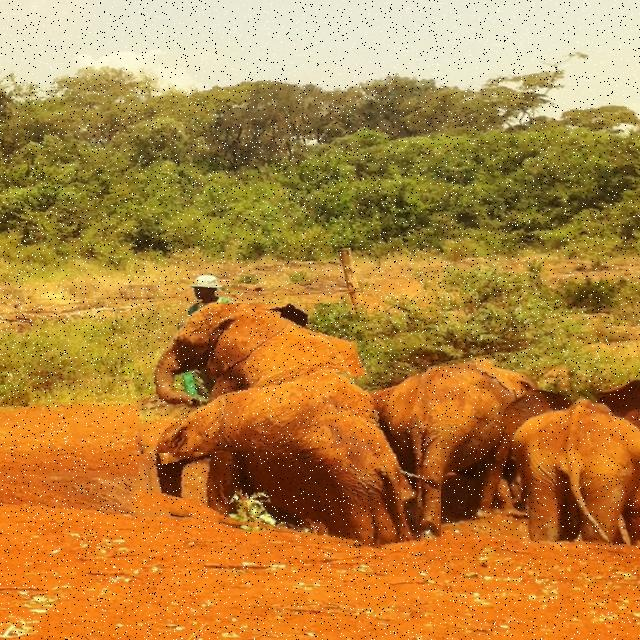elephant: (137, 378, 433, 548), (134, 303, 368, 454), (440, 389, 640, 560), (346, 360, 515, 561)
